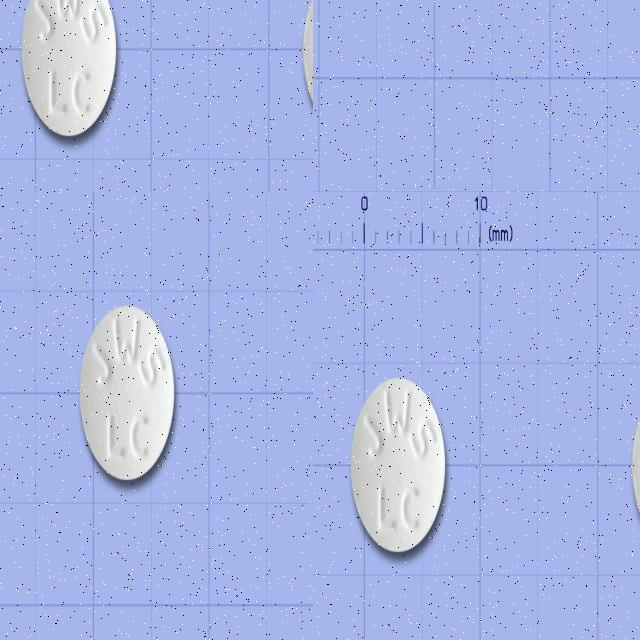Doxymedi: (165, 192, 313, 412), (0, 192, 143, 413)
Procin Tab: (351, 378, 446, 554)
Tricyline-N Cap: (11, 0, 122, 150)
